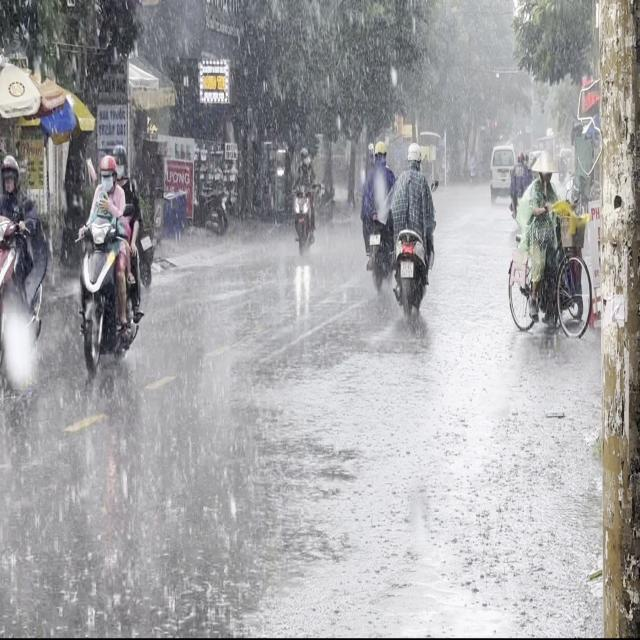helmet: (0, 154, 19, 193), (98, 154, 116, 188), (406, 140, 421, 166)
licenseplate: (74, 151, 144, 379), (0, 147, 54, 392), (391, 139, 436, 322)
nohelmet: (400, 260, 413, 276)
